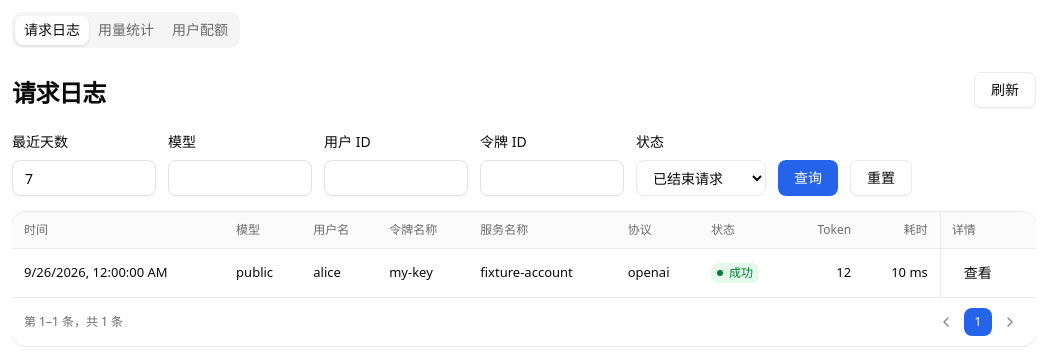
Test: does not open an obsolete detail after refreshing the query
Click the button "查看".
click(978, 272)  # box [952,256,1004,288]
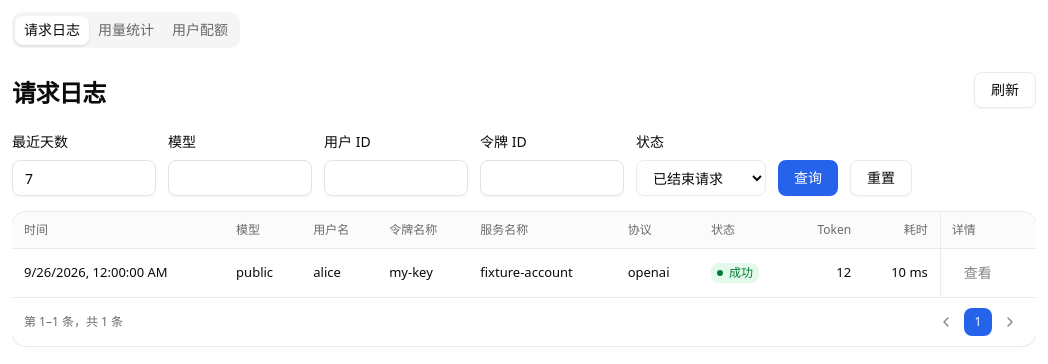
Click the button "刷新".
click(1005, 90)  # box [974,72,1036,108]
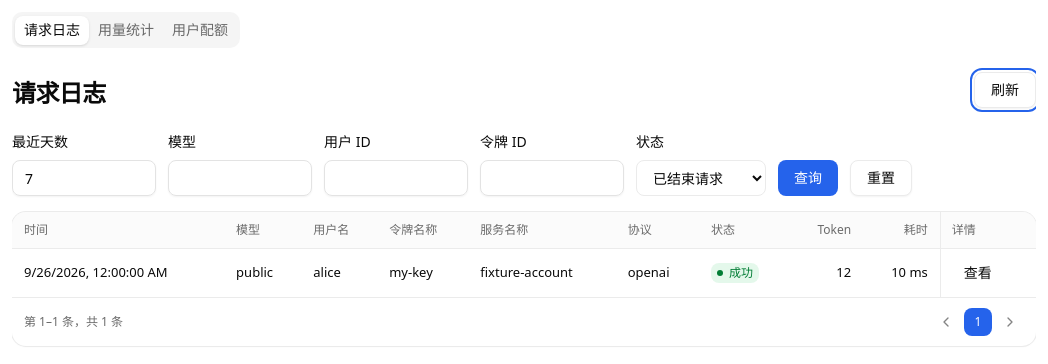
Result: the button "查看" is enabled at [952,256,1004,288]
